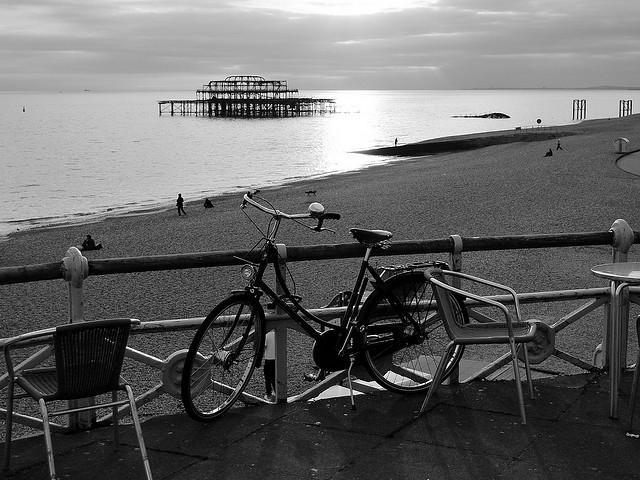bicycle: (182, 188, 468, 420)
